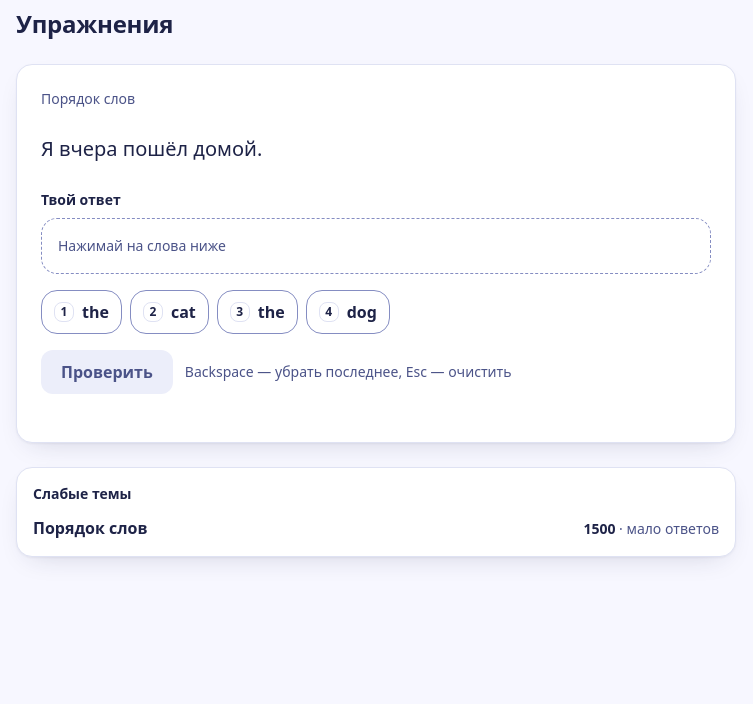
Test: OrderExercise › одинаковые плитки выбираются независимо
The width and height of the screenshot is (753, 704).
Check: the text "Я вчера пошёл домой." is shown, box [41,135,262,162]
Click the button "3 the".
click(257, 312)  # box [217,290,298,334]
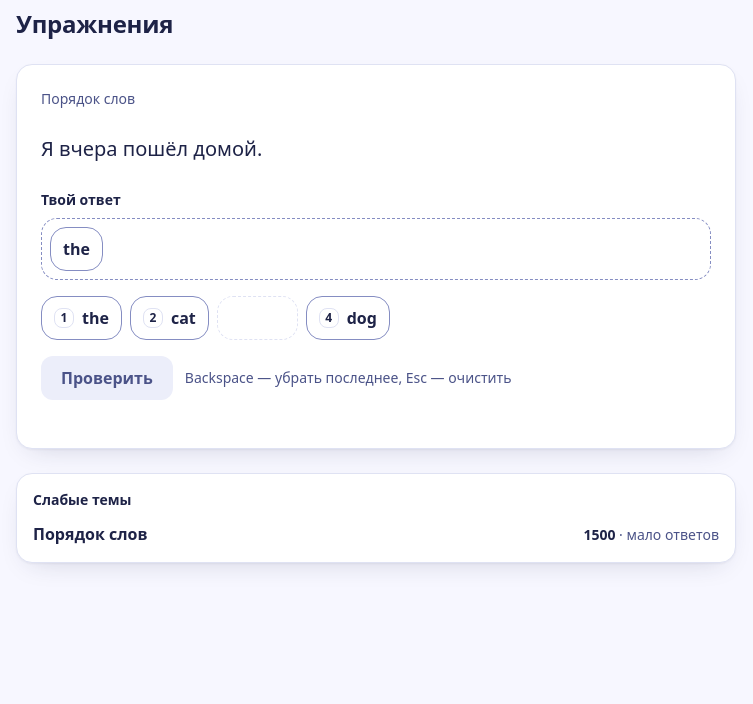
Type keys "1"
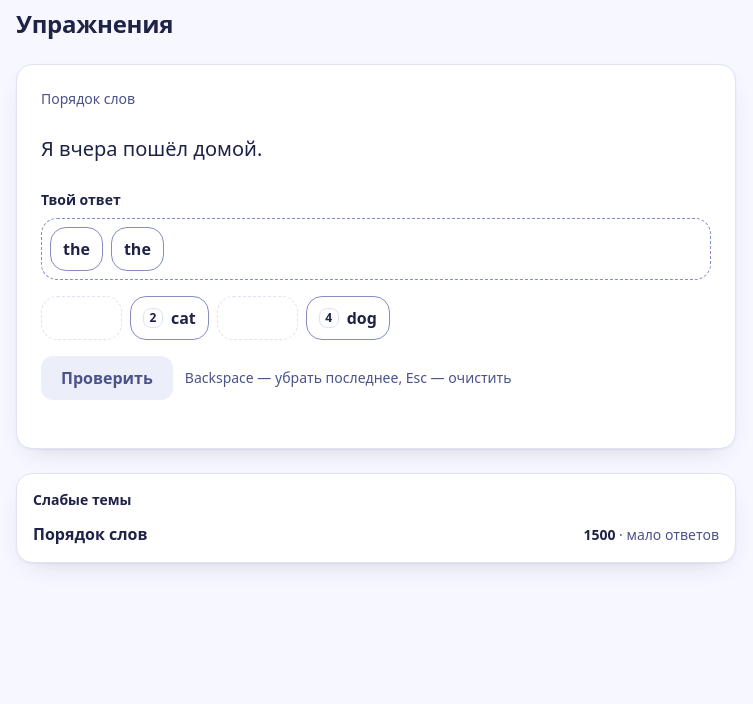
Type keys "24{Enter}"
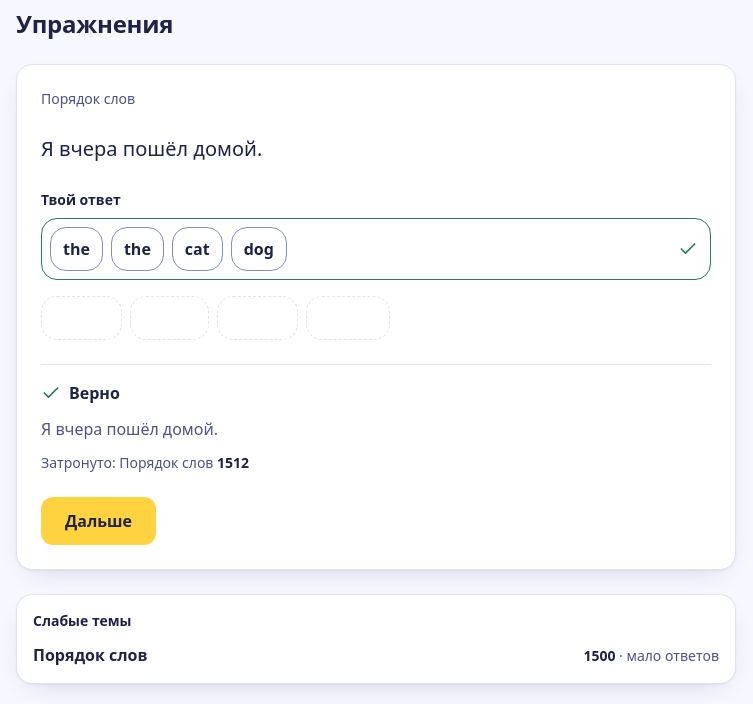
Check: the text "Верно" is shown, box [41,382,120,404]
